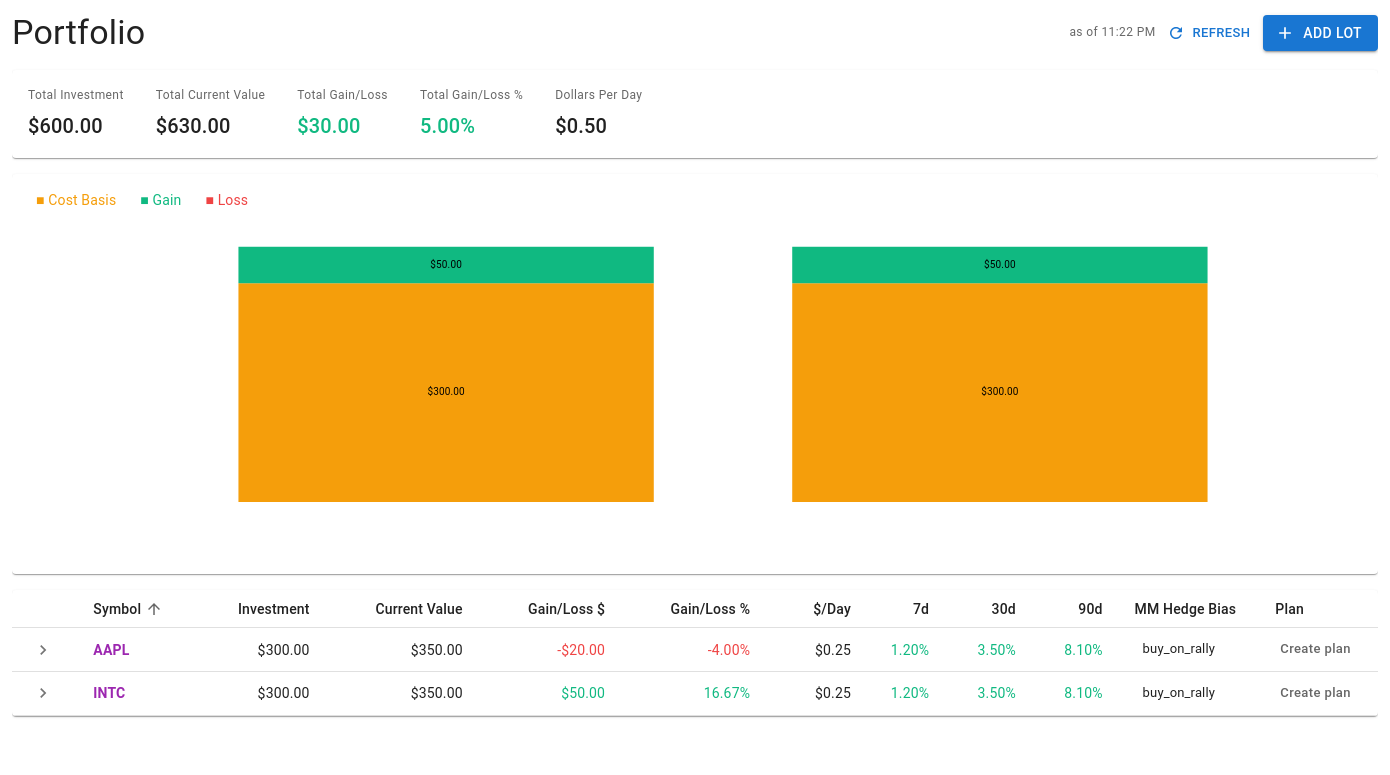
Test: PortfolioPage › expands a symbol row to reveal its lots
This screenshot has width=1390, height=775.
Expected: the text "INTC" is shown, [93,685,125,701]
Click the button without text in the row of "-$20.00".
click(43, 650)  # box [28,635,58,665]
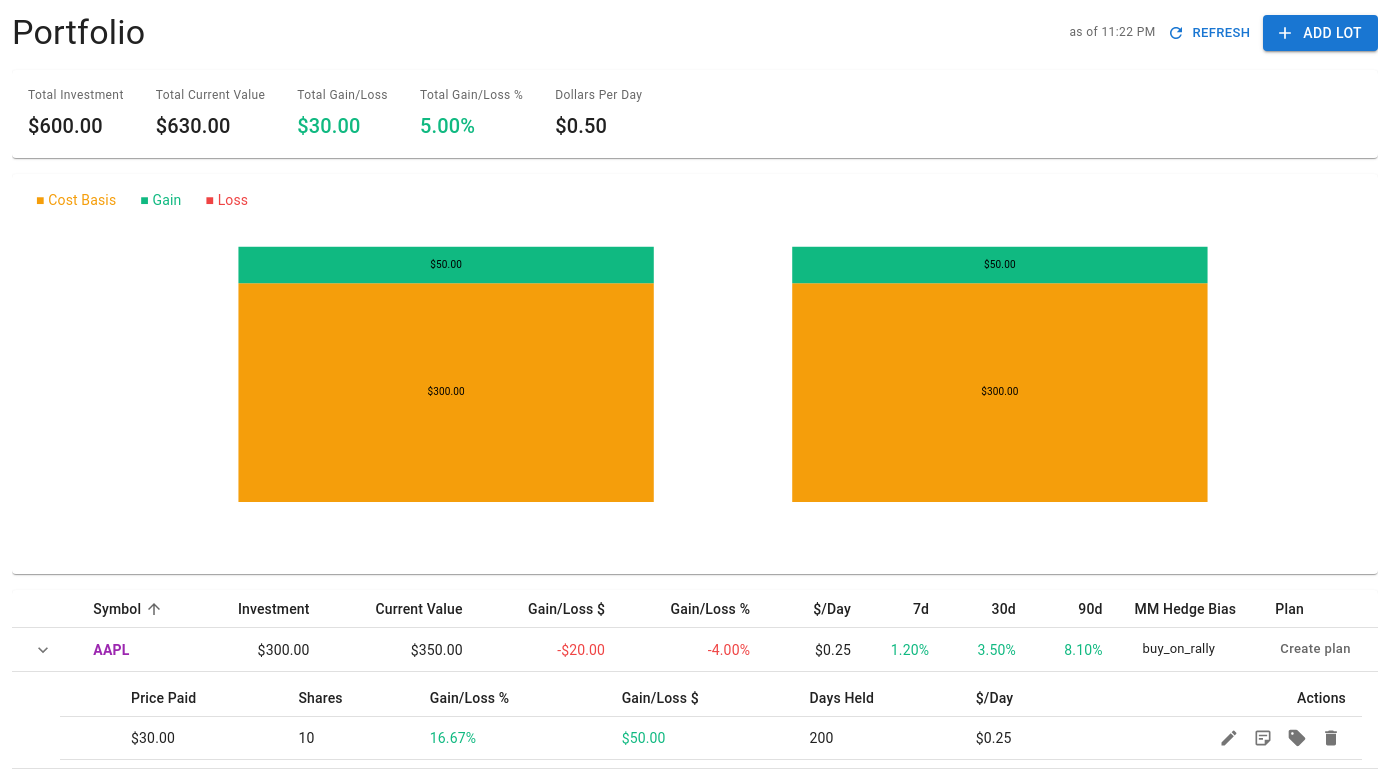
Now the column heading "Price Paid" is shown, box [115,680,282,716]
